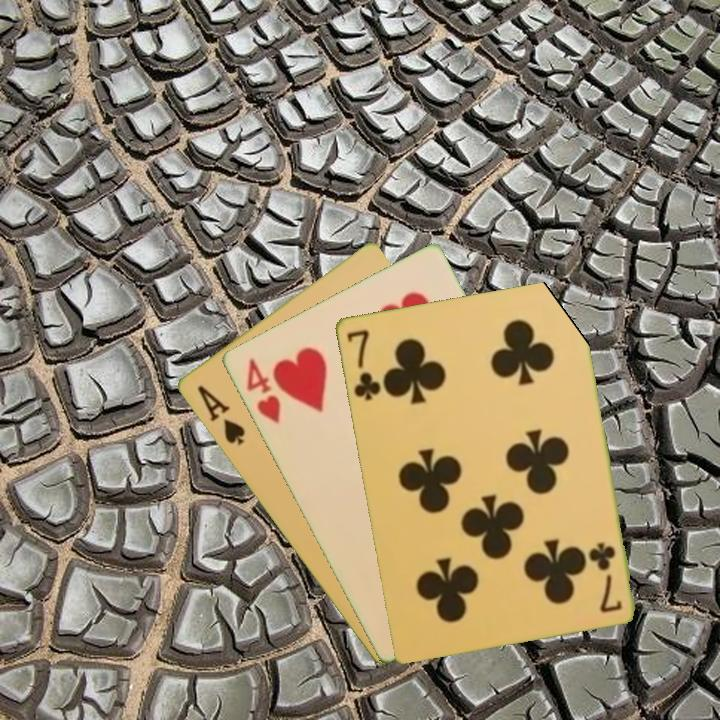4h: (242, 354, 283, 427)
7c: (343, 325, 384, 403), (586, 538, 624, 615)
As: (193, 381, 248, 449)
